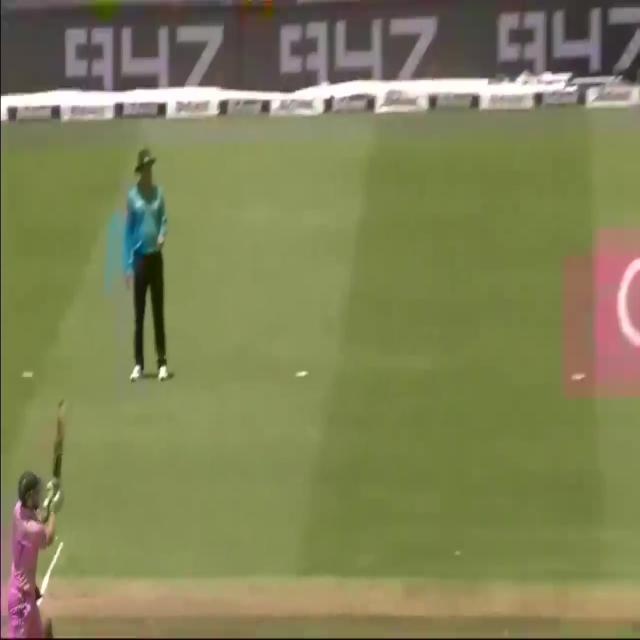Ball: (1, 434, 68, 634)
Umpire: (123, 136, 174, 386)
